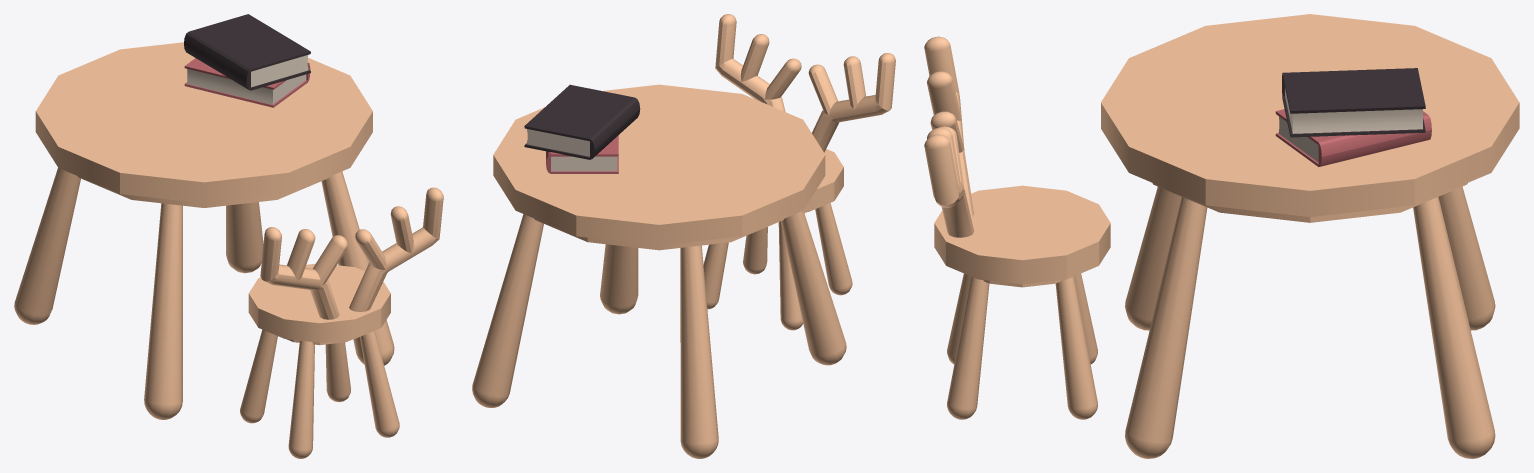
The model's file is Furn5_worktable_color1_joined.fbx.
3 views of the same model, side by side, from view 1: azimuth 30°, elevation 25°; view 2: azimuth 150°, elevation 25°; view 3: azimuth 270°, elevation 25° (orthographic). The views are drawn at different scales.
Visible parts, largest first — view 1: Куб.001; view 2: Куб.001; view 3: Куб.001.
Boxes of the visible parts, x1=… form: Куб.001: x1=14, y1=14, x2=443, y2=458; Куб.001: x1=472, y1=14, x2=895, y2=458; Куб.001: x1=924, y1=14, x2=1519, y2=458.
Bounding box in the file's own units: 185 × 166 × 263.
